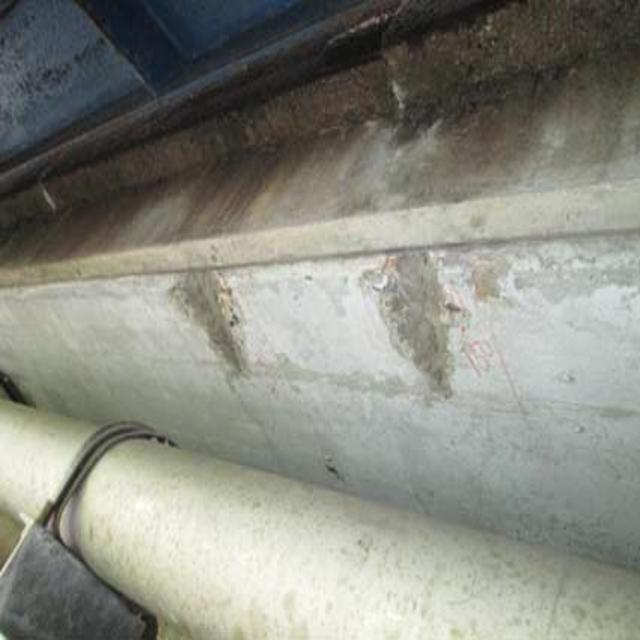spalling: (361, 244, 503, 412), (153, 264, 261, 380)
